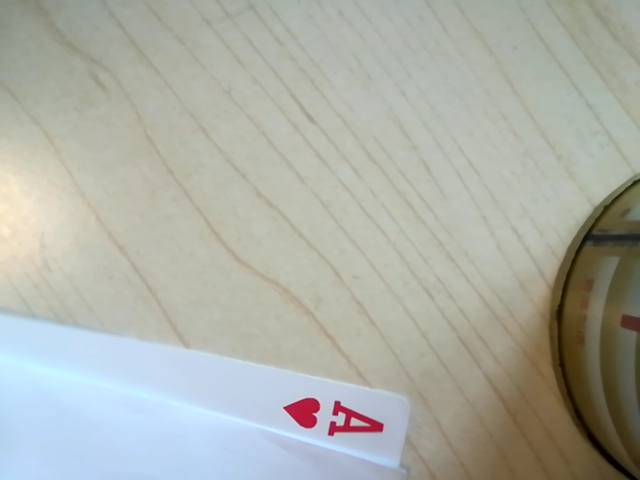hx a: (273, 387, 395, 452)
